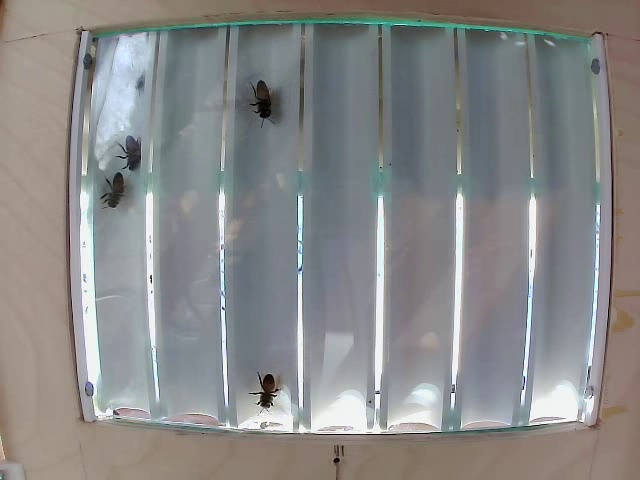bee: (248, 78, 292, 127), (254, 370, 291, 415), (120, 134, 156, 174), (91, 173, 128, 207)
